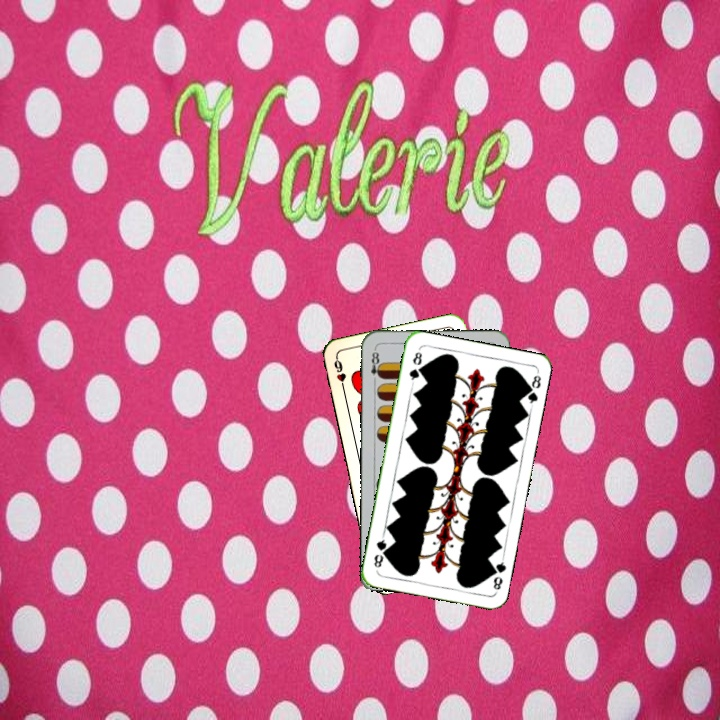E8: (367, 345, 384, 385)
G8: (486, 554, 509, 594), (405, 348, 424, 386)
H9: (330, 354, 349, 394)
